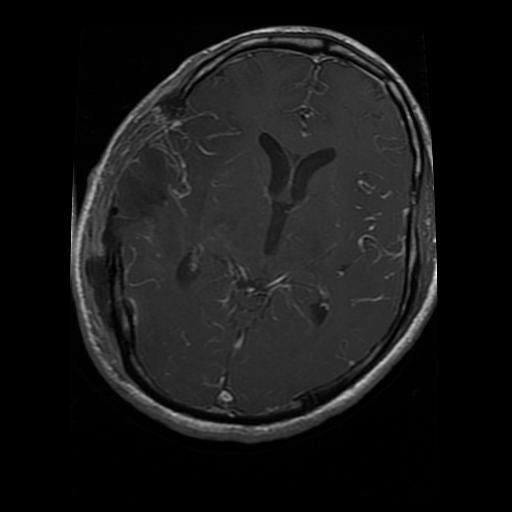Tumour-Glioma: (95, 128, 196, 225)
